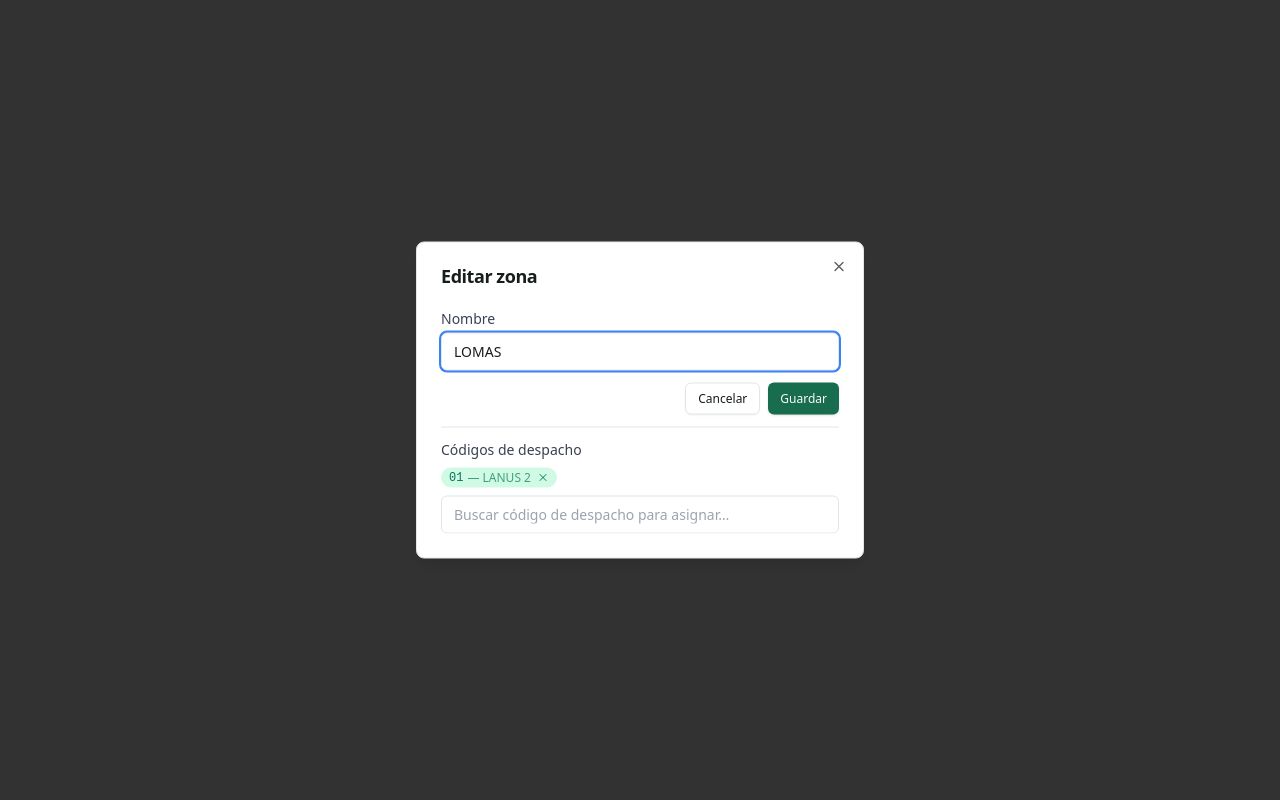
Test: ZonaModal — edición › borrar la búsqueda de código vacía la lista de resultados (no solo el texto anterior)
The image size is (1280, 800).
Type "per" into the field with placeholder "Buscar código de despacho para asignar…" at (640, 514), box 441,496 -> 839,534
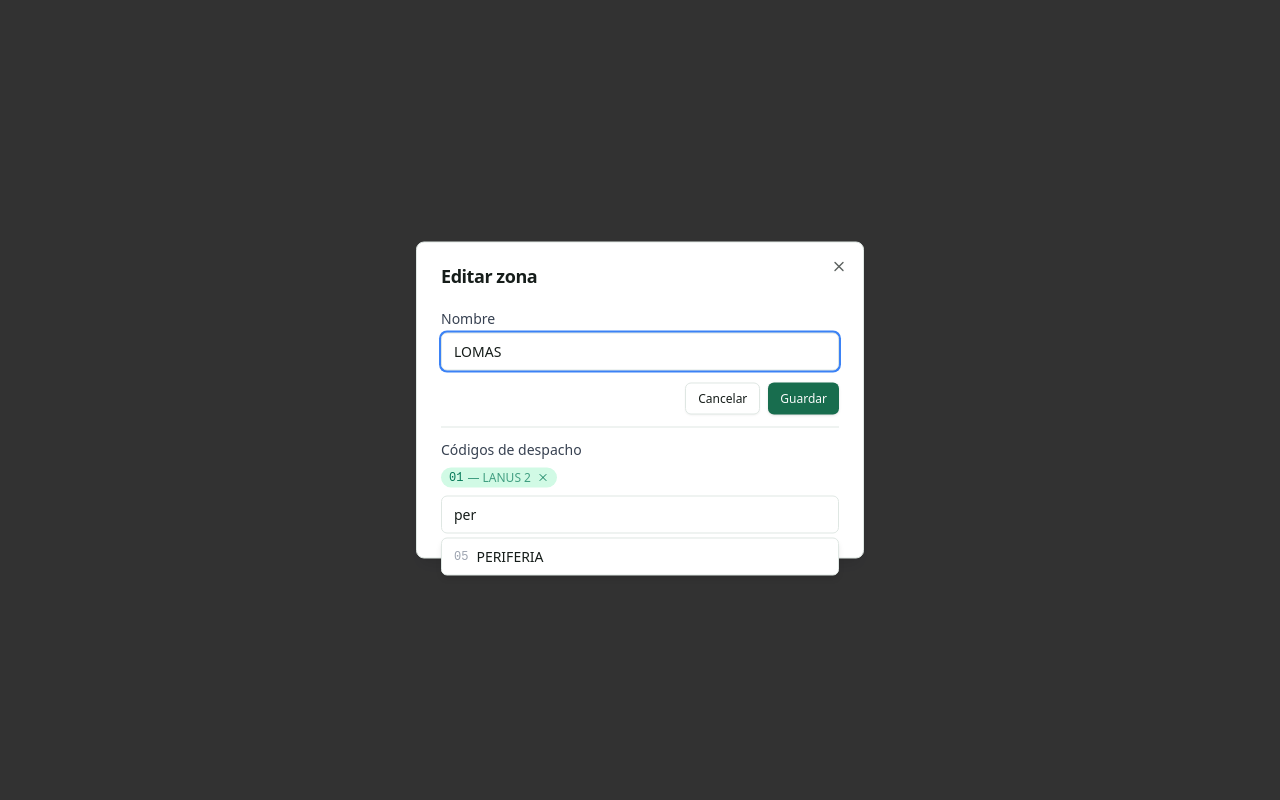
expect the text "PERIFERIA" is shown: met, box 476,546 -> 544,566
Clear the field with placeholder "Buscar código de despacho para asignar…" below "LANUS 2" at (640, 514), box 441,496 -> 839,534
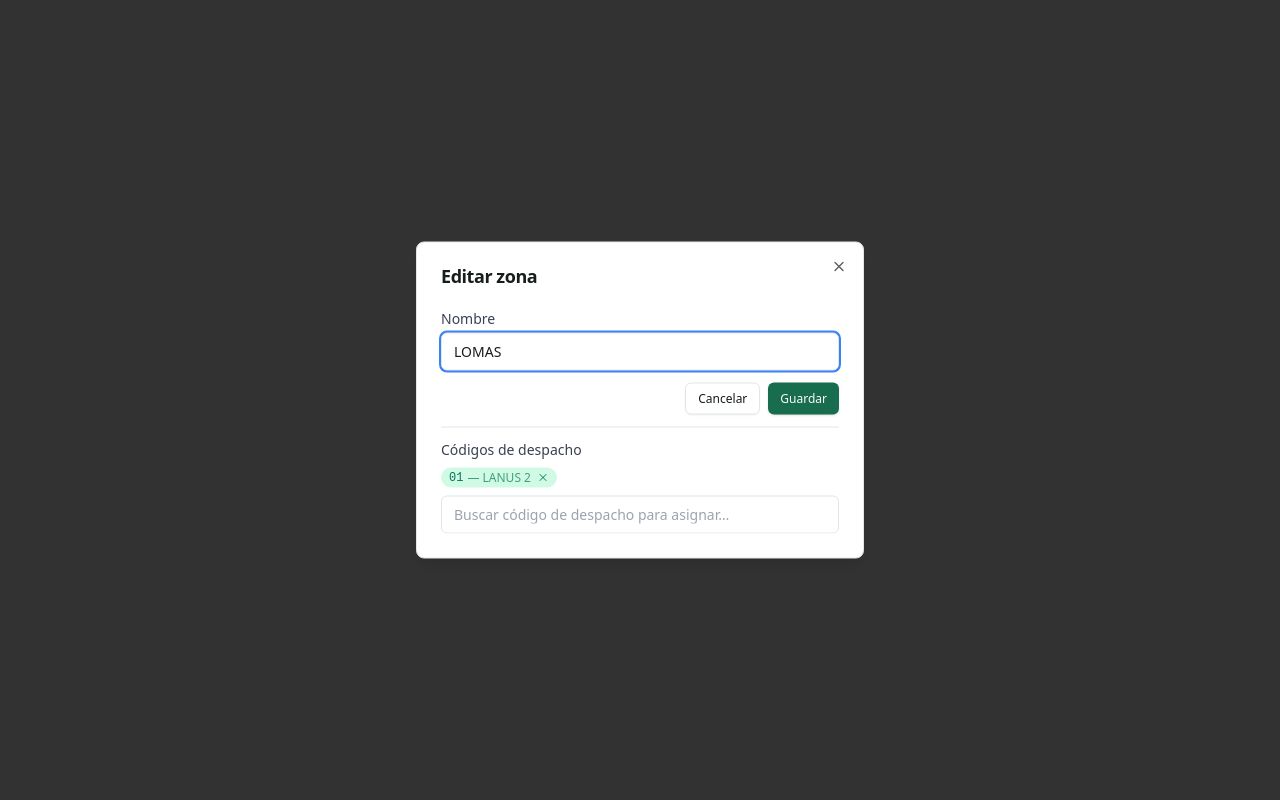
expect the text "PERIFERIA" is gone: met
expect the list is gone: met
